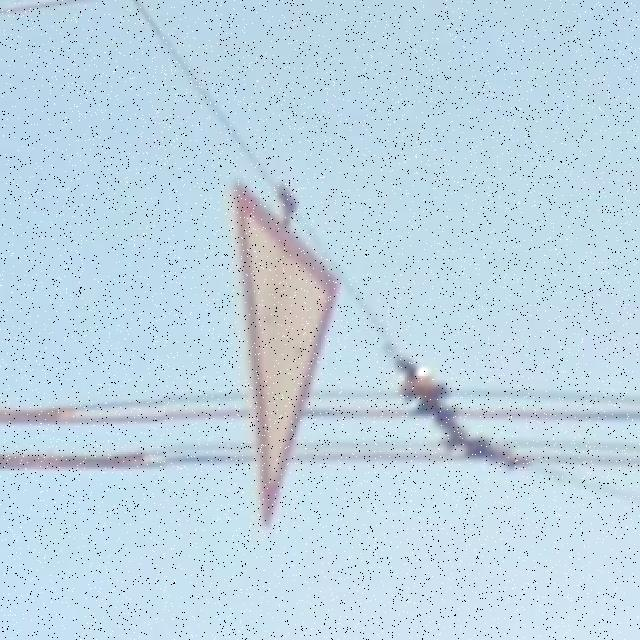Ustap pierwszenstwa: (231, 180, 342, 528)
